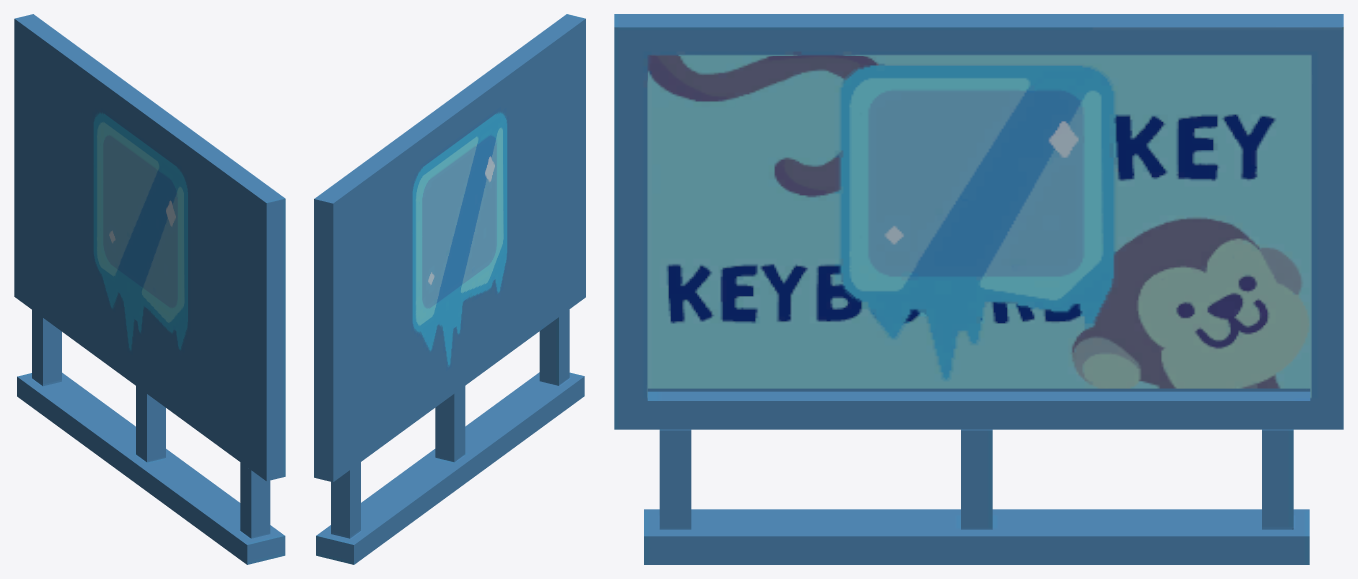
Rendered from BillboardFreeze.fbx.
The picture shows the model from 3 angles, left to right: view 1: azimuth 30°, elevation 25°; view 2: azimuth 150°, elevation 25°; view 3: azimuth 270°, elevation 25°; orthographic projection. The views are drawn at different scales.
Visible parts, largest first — view 1: Billboard; view 2: Billboard; view 3: Billboard.
Part boxes in pixels (x1,y1,x2,y2): Billboard: (14, 14, 285, 564); Billboard: (314, 14, 585, 564); Billboard: (614, 14, 1343, 564).
Size of the model in its own units: 20 by 185 by 230.
